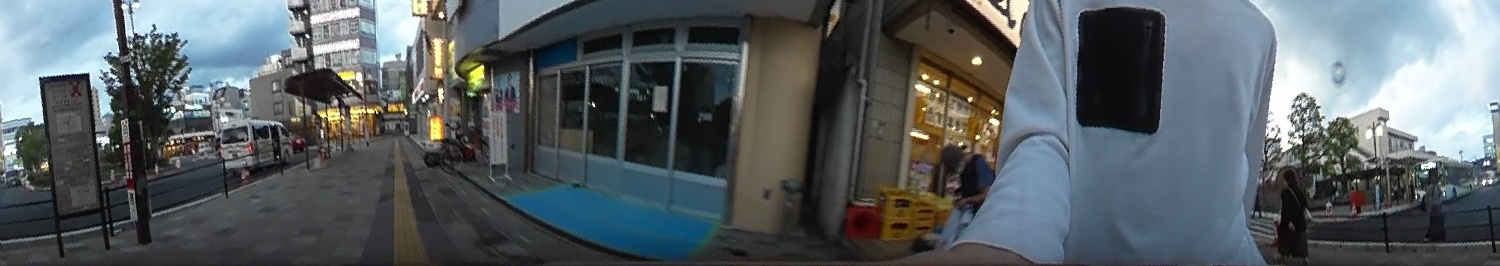person: (934, 137, 989, 218), (1276, 166, 1315, 263), (1419, 168, 1456, 256)
